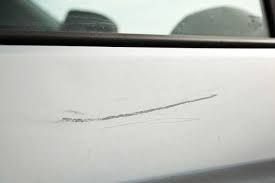scratch: (44, 89, 229, 132)
